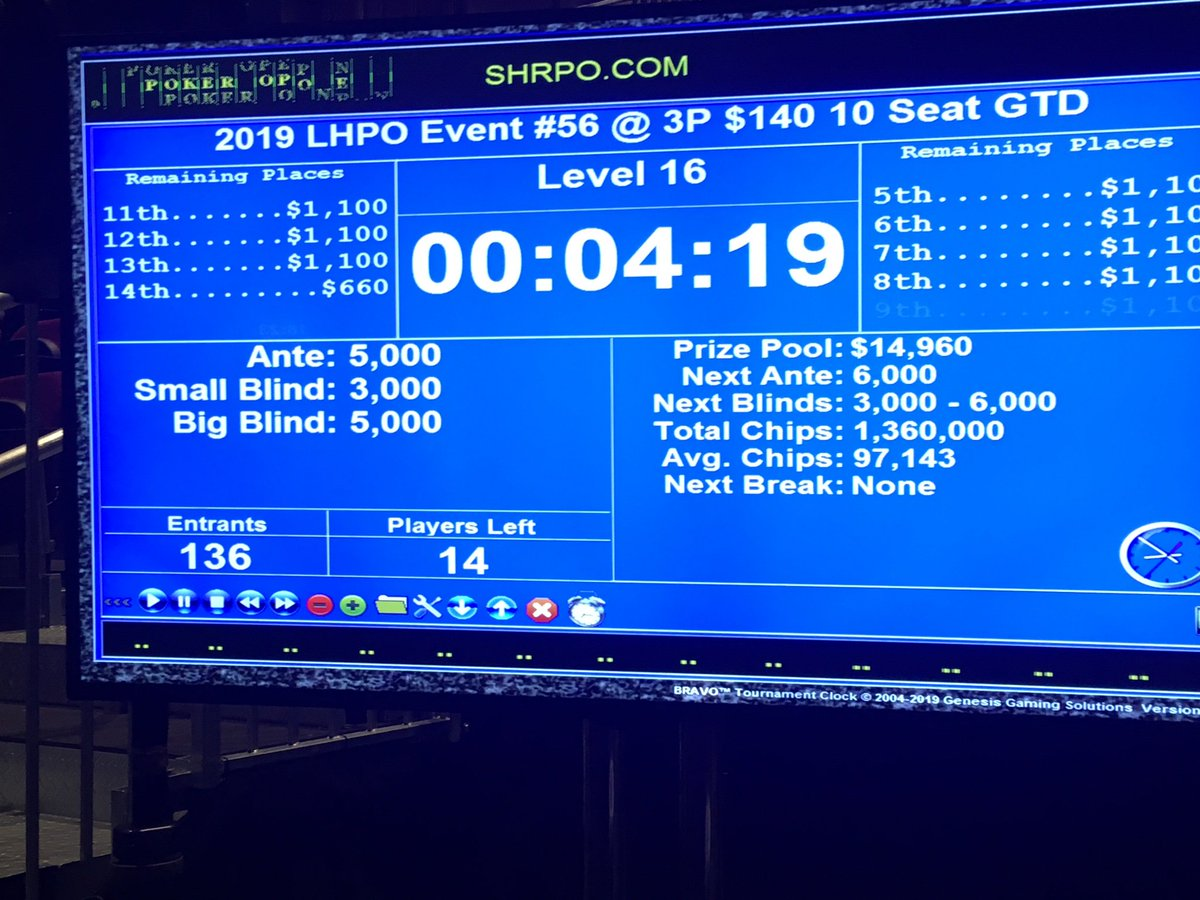PlayersLeft: (327, 503, 618, 585)
Remaining: (79, 155, 402, 344)
TournamentClock: (85, 97, 1200, 598)
